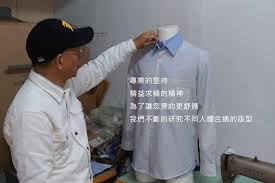S_shirt: (121, 35, 216, 178)
